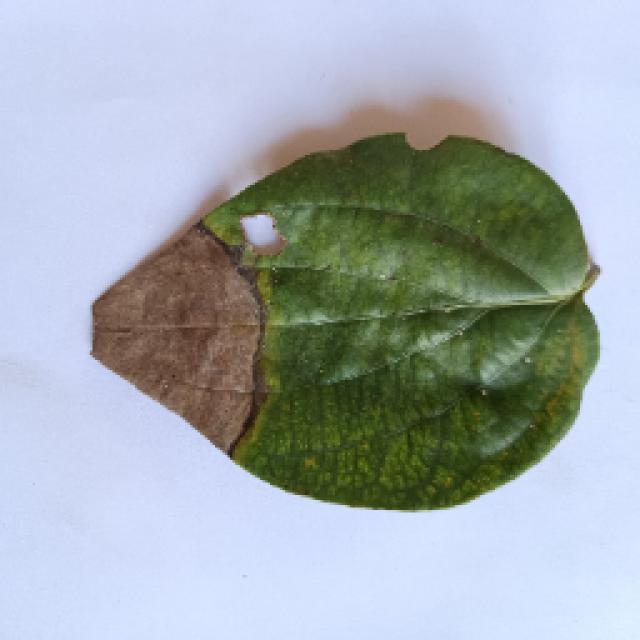footrot: (18, 108, 602, 518)
